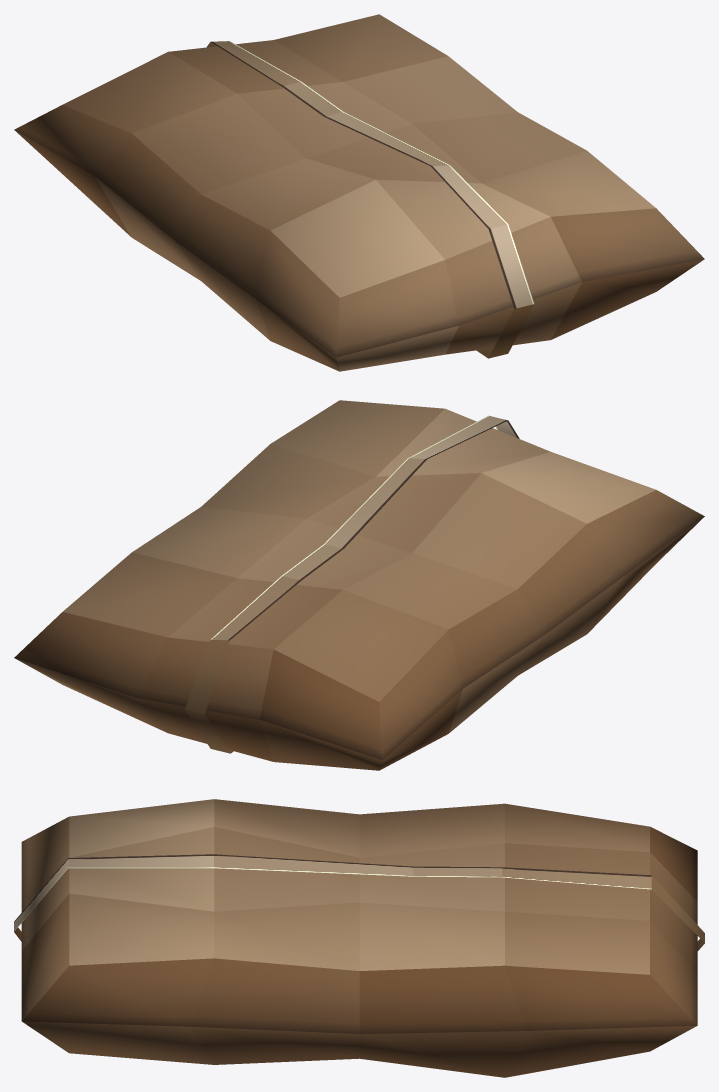
File: SandBag.fbx
3 views of the same model, one above another, from view 1: azimuth 30°, elevation 25°; view 2: azimuth 150°, elevation 25°; view 3: azimuth 270°, elevation 25° (orthographic). The views are drawn at different scales.
Parts seen in each view (by area): view 1: SandBag; view 2: SandBag; view 3: SandBag.
Part boxes in pixels (x1=…): SandBag: x1=14, y1=14, x2=704, y2=371; SandBag: x1=14, y1=400, x2=704, y2=770; SandBag: x1=14, y1=799, x2=704, y2=1077.
Size of the model in its own units: 734 by 274 by 1136.
